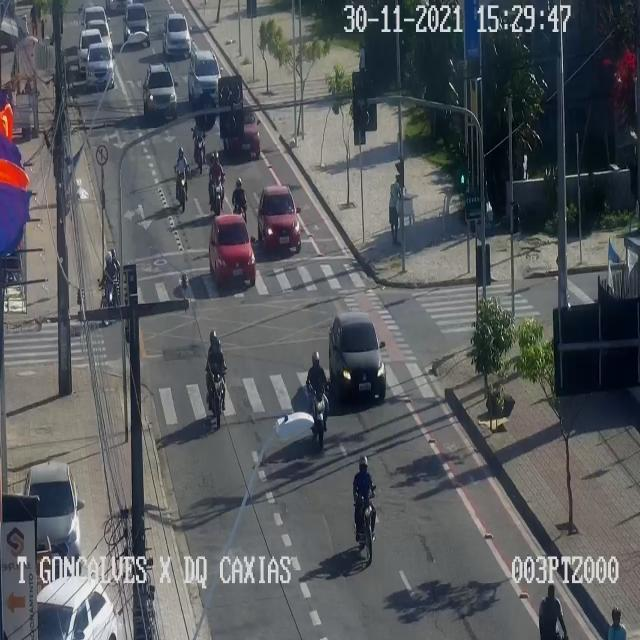Car: (24, 463, 84, 566), (330, 310, 388, 404), (38, 577, 116, 639), (210, 212, 256, 292), (258, 186, 302, 255), (227, 105, 263, 159), (144, 63, 178, 120), (189, 48, 220, 106), (88, 44, 116, 92), (163, 12, 192, 55), (122, 3, 150, 47), (87, 19, 114, 60), (78, 28, 102, 73), (80, 0, 111, 32), (102, 0, 136, 11)
Motorcycle: (353, 454, 377, 564), (98, 250, 126, 327), (207, 328, 227, 433), (306, 353, 328, 446), (597, 600, 634, 640), (228, 175, 254, 231), (174, 146, 190, 212), (209, 150, 225, 216), (192, 119, 204, 175)
